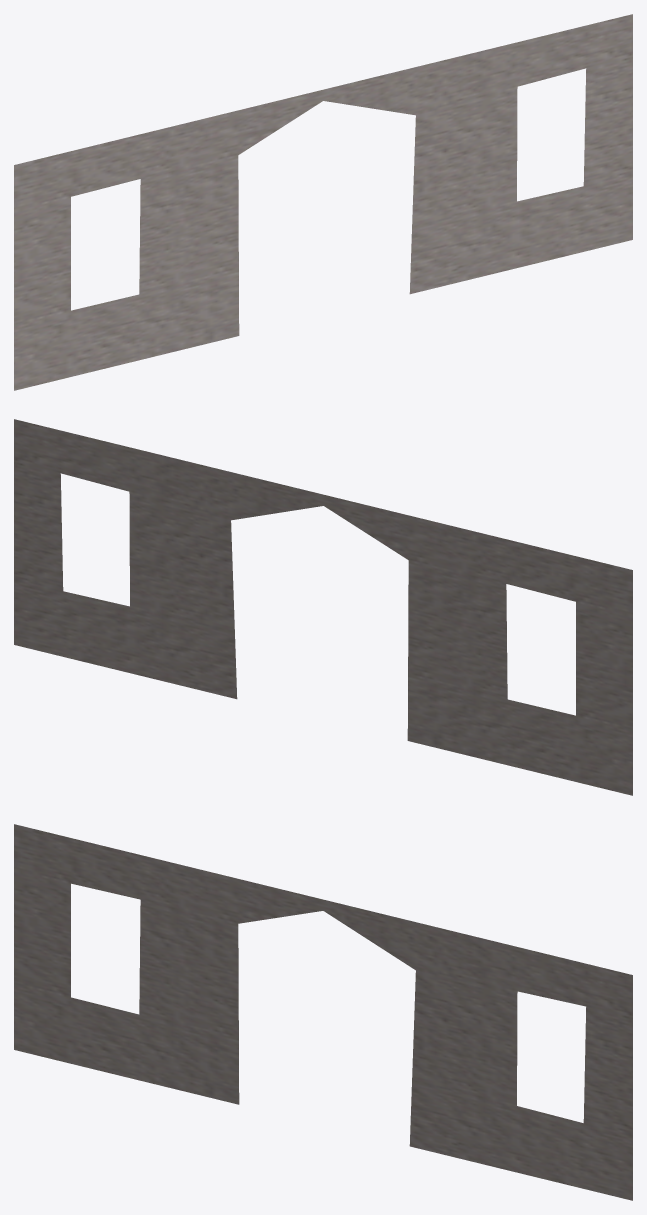
Rendered from W_AI3_fOf_1405.glb.
3 renders of one model, top to bottom at view 1: azimuth 30°, elevation 25°; view 2: azimuth 150°, elevation 25°; view 3: azimuth 330°, elevation 25°, orthographic.
Parts seen in each view (by area): view 1: polySurfaceShape771; view 2: polySurfaceShape771; view 3: polySurfaceShape771.
Part boxes in pixels (x1=…): polySurfaceShape771: x1=14, y1=14, x2=632, y2=390; polySurfaceShape771: x1=14, y1=419, x2=632, y2=795; polySurfaceShape771: x1=14, y1=824, x2=632, y2=1200.
Size of the model in its own units: 1 by 0.3486 by 1.52e-08.
1 material, 1 textured.
